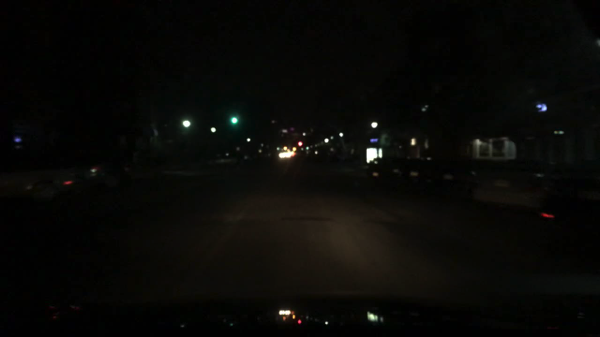car: (1, 151, 106, 209), (535, 161, 599, 237), (472, 158, 550, 212), (299, 145, 370, 187), (423, 154, 480, 193), (368, 155, 426, 190), (206, 151, 238, 169)
traffic light: (229, 115, 238, 125)
